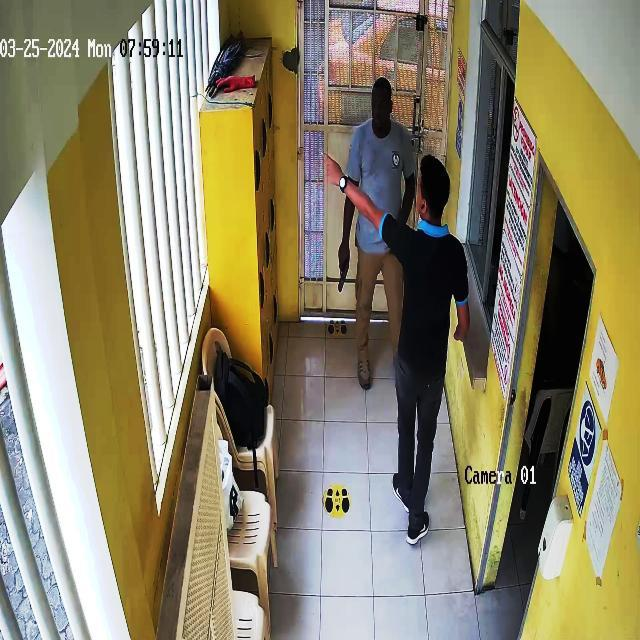Gun: (322, 240, 358, 297)
